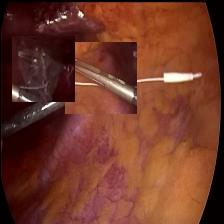Grasper: (64, 41, 136, 113)
Specimen Bag: (11, 35, 74, 100)
